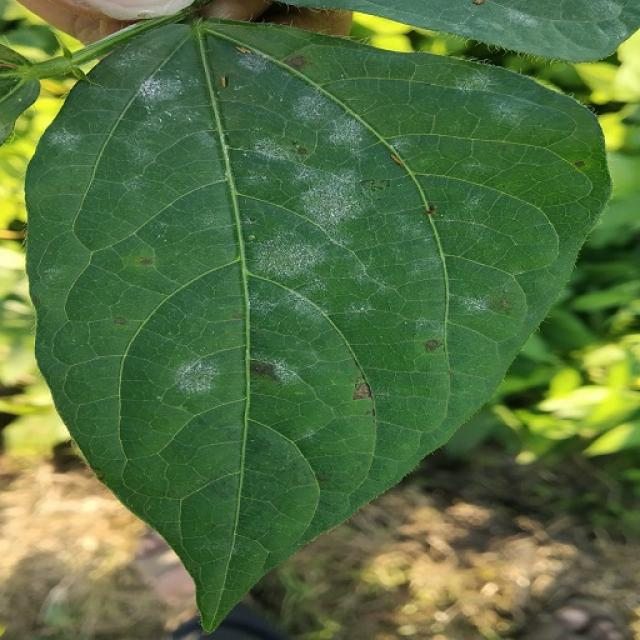Blackgram: (28, 21, 609, 629)
Powdery_Mildew: (257, 221, 340, 279), (487, 4, 586, 38), (168, 302, 241, 346), (174, 354, 225, 411), (318, 108, 372, 154), (249, 132, 311, 171), (135, 66, 188, 108), (249, 357, 301, 388), (233, 50, 273, 78), (454, 68, 498, 92), (123, 245, 159, 274), (48, 127, 79, 153), (459, 294, 493, 313), (358, 178, 390, 192), (352, 379, 372, 401), (384, 144, 402, 162), (424, 339, 439, 352), (316, 471, 330, 482), (113, 316, 128, 326), (92, 469, 104, 481), (231, 310, 244, 320), (356, 304, 367, 313), (573, 160, 585, 168), (222, 132, 231, 142), (31, 295, 40, 305), (246, 217, 256, 224), (247, 234, 256, 241), (215, 90, 221, 98), (291, 140, 298, 146), (157, 233, 163, 238), (340, 217, 345, 222), (18, 97, 22, 102)
